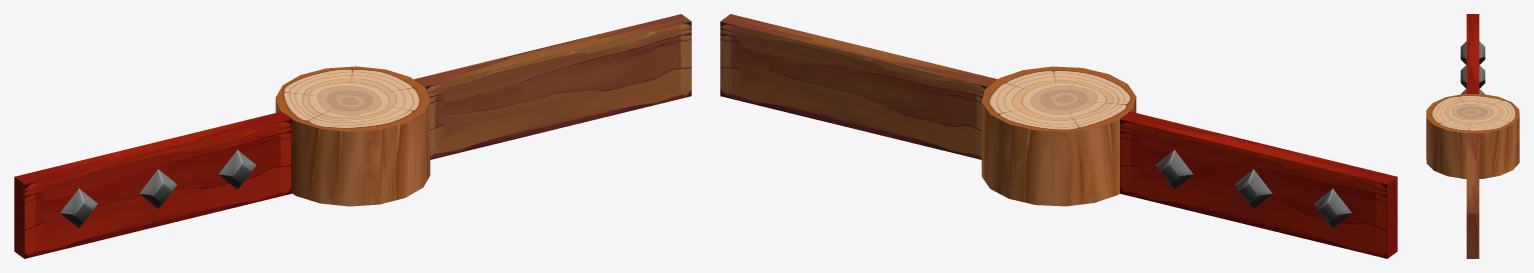
The model's file is two_blade_double_02.fbx.
3 views of the same model, side by side, from view 1: azimuth 30°, elevation 25°; view 2: azimuth 150°, elevation 25°; view 3: azimuth 270°, elevation 25° (orthographic). The views are drawn at different scales.
Parts seen in each view (by area): view 1: two_blade_double_02; view 2: two_blade_double_02; view 3: two_blade_double_02.
Part boxes in pixels (x1=…): two_blade_double_02: x1=14, y1=14, x2=691, y2=258; two_blade_double_02: x1=720, y1=14, x2=1397, y2=258; two_blade_double_02: x1=1426, y1=14, x2=1519, y2=258.
Size of the model in its own units: 374 by 40 by 74.15.
